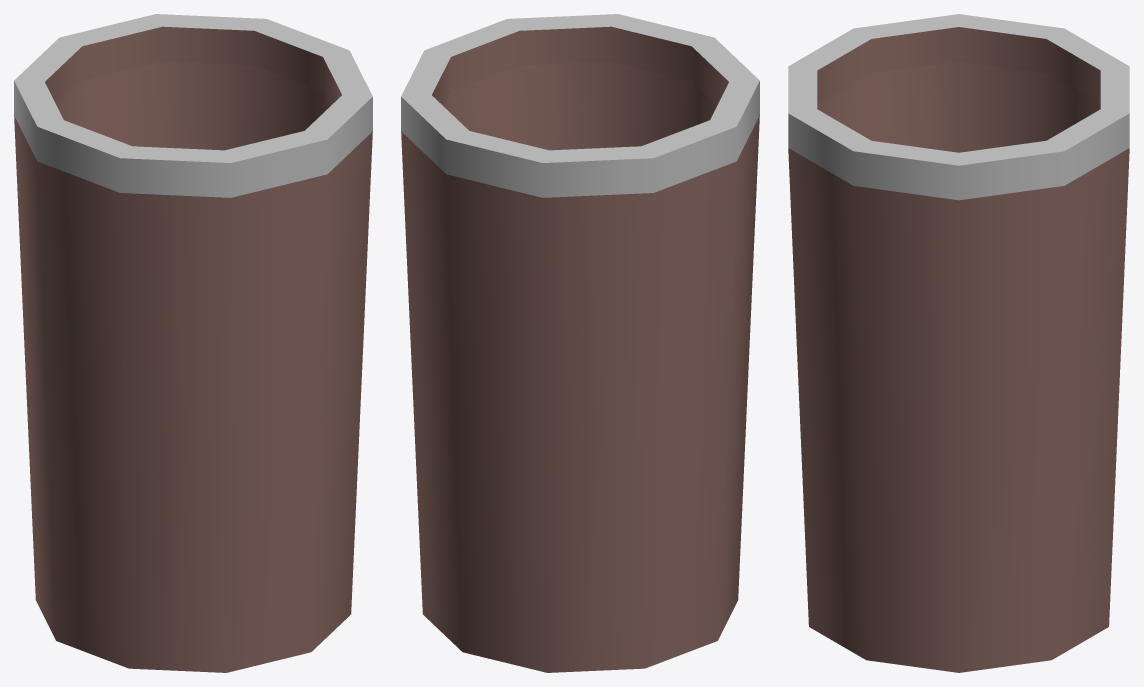
File: egy_poleholder.fbx
3 views of the same model, side by side, from view 1: azimuth 30°, elevation 25°; view 2: azimuth 150°, elevation 25°; view 3: azimuth 270°, elevation 25° (orthographic).
Visible parts, largest first — view 1: pole_holder; view 2: pole_holder; view 3: pole_holder.
Boxes of the visible parts, x1,y1,x2,y2 form: pole_holder: (14, 14, 372, 672); pole_holder: (401, 14, 759, 672); pole_holder: (788, 14, 1129, 672).
Bounding box in the file's own units: 0.6301 × 0.9999 × 0.5992.
